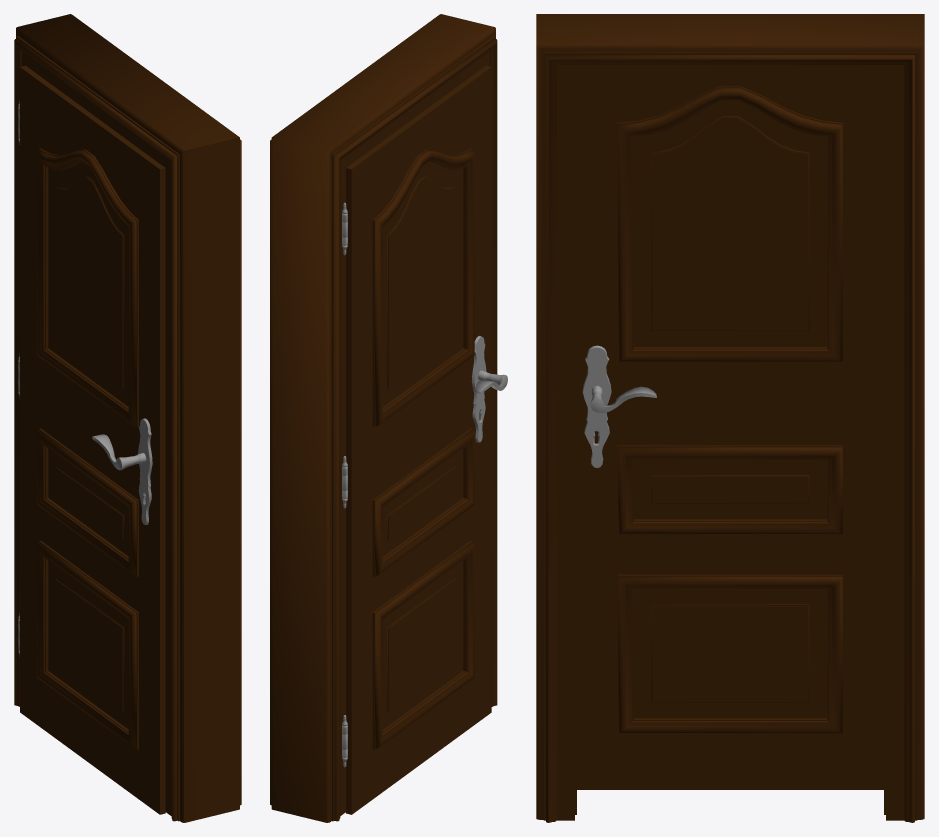
The model's file is Wooden Door.FBX.
3 views of the same model, side by side, from view 1: azimuth 30°, elevation 25°; view 2: azimuth 150°, elevation 25°; view 3: azimuth 270°, elevation 25° (orthographic). The views are drawn at different scales.
Parts seen in each view (by area): view 1: Wooden_Door, Door_Frame; view 2: Wooden_Door, Door_Frame; view 3: Wooden_Door, Door_Frame.
Boxes of the visible parts, left/top/right/bottom form: Wooden_Door: left=20, top=65, right=165, bottom=814; Door_Frame: left=14, top=14, right=241, bottom=822; Wooden_Door: left=346, top=65, right=507, bottom=814; Door_Frame: left=270, top=14, right=497, bottom=822; Wooden_Door: left=576, top=81, right=884, bottom=789; Door_Frame: left=536, top=14, right=924, bottom=822.
Bounding box in the file's own units: 35.73 × 220 × 100.
